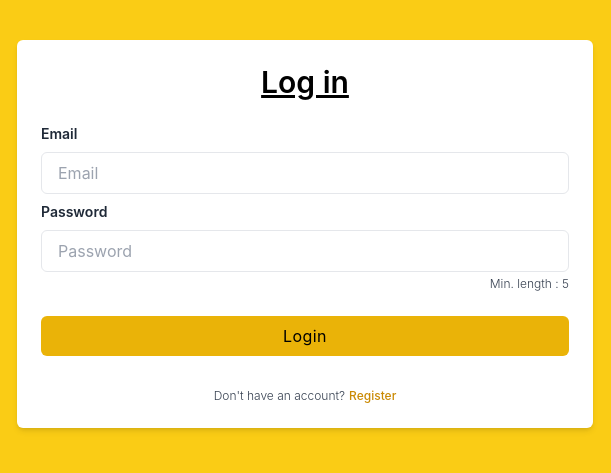
Test case: renders password length error
This screenshot has width=611, height=473.
Type "testemail@gmail.com" into the field with placeholder "Email" at x=305, y=173, box [41, 152, 569, 194]
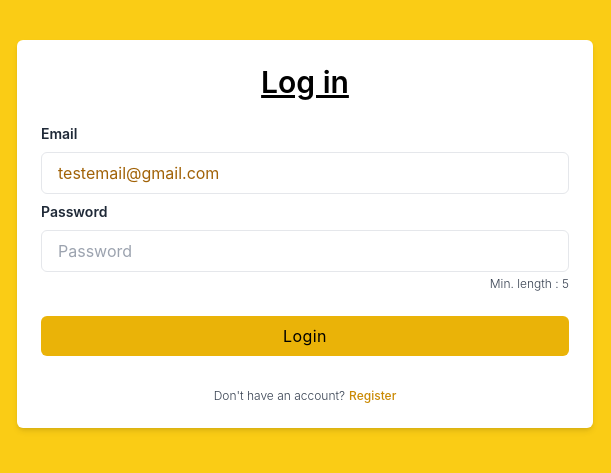
Type "1234" into the password field with placeholder "Password" at x=305, y=251, box [41, 230, 569, 272]
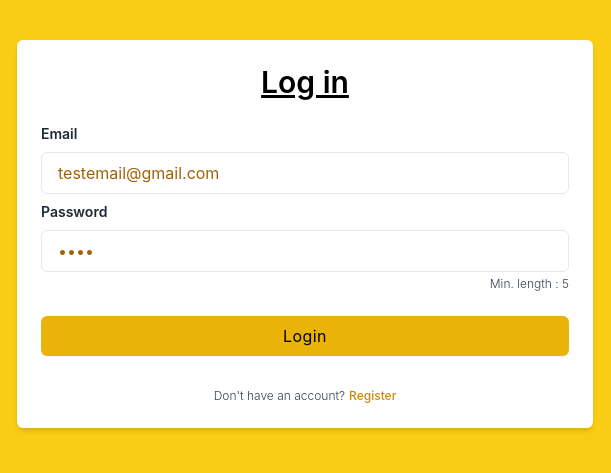
Click the button at x=305, y=336, box [41, 316, 569, 356]
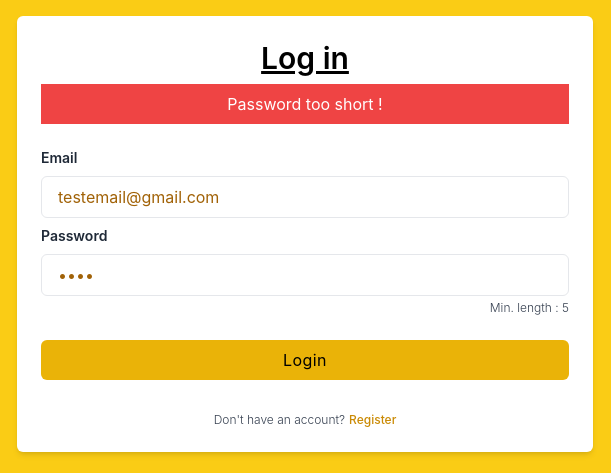
Expected: the element with test id "errorMessageId" reads "Password too short !", [227, 94, 383, 114]
